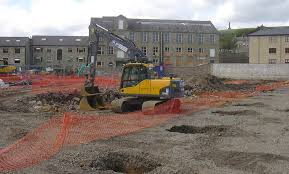excavator: (81, 23, 181, 116)
